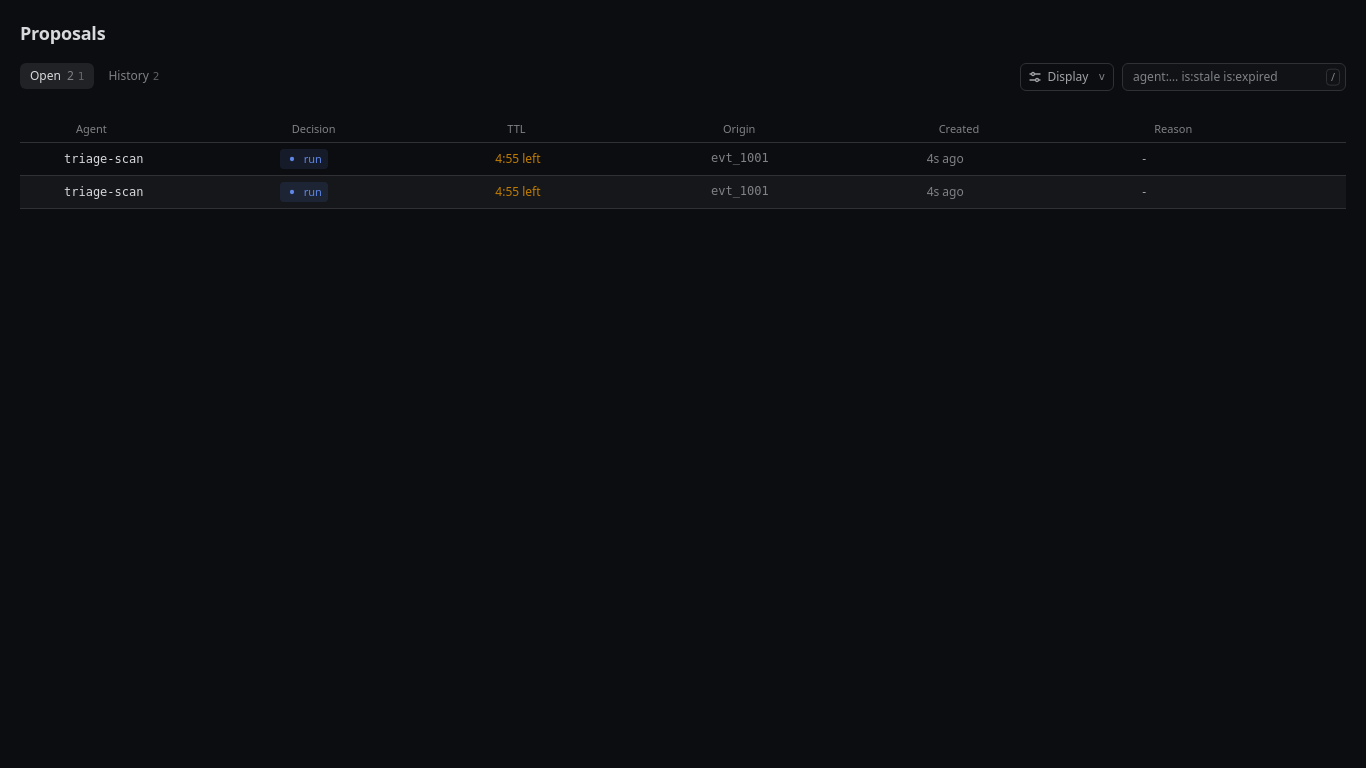
Proposals multi-row selection & bulk actions (WM-71) › bulk reject prompts once for reason and applies to all selected
Check: the checkbox named "Select proposal prop_1" is shown, box [20,143,52,176]
// Select all 2
Click the checkbox named "Select all proposals": [36, 129] box [20,115,52,143]
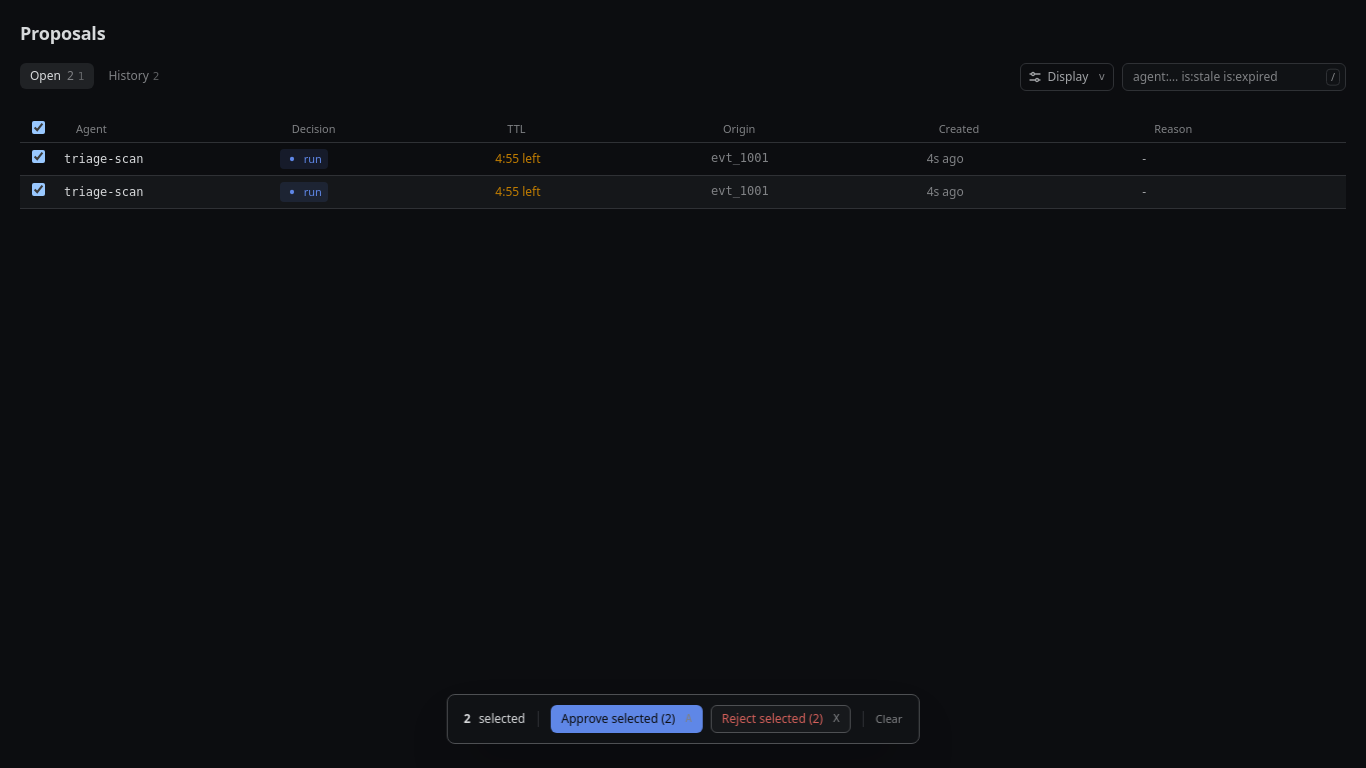
// Click Reject selected (2)
Click the button "Reject selected (2) X": [781, 719] box [711,705,851,733]
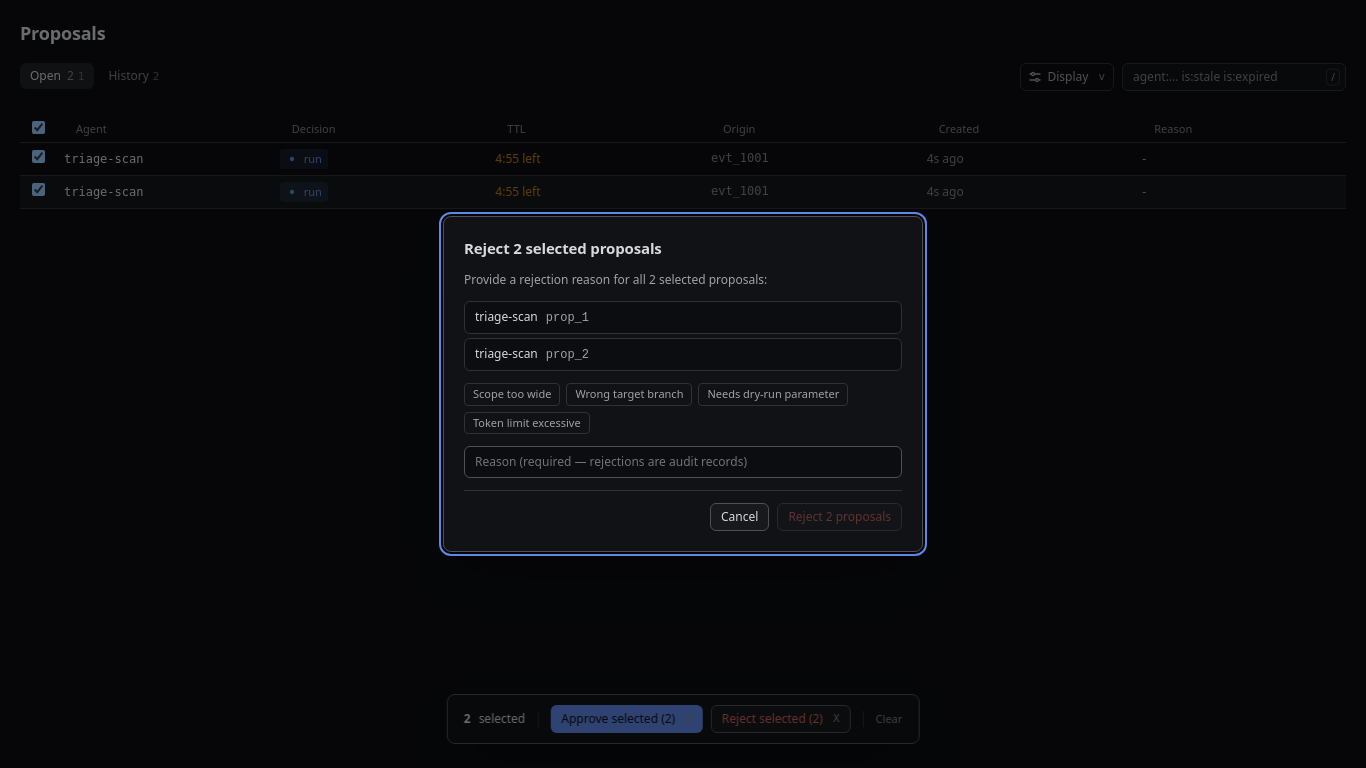
Check: the dialog is shown, box [443,216,923,552]
Check: the text "Reject 2 selected proposals" is shown, box [464,238,662,258]
// Click a canned template
Click the button "Scope too wide": [512, 395] box [464,383,560,406]
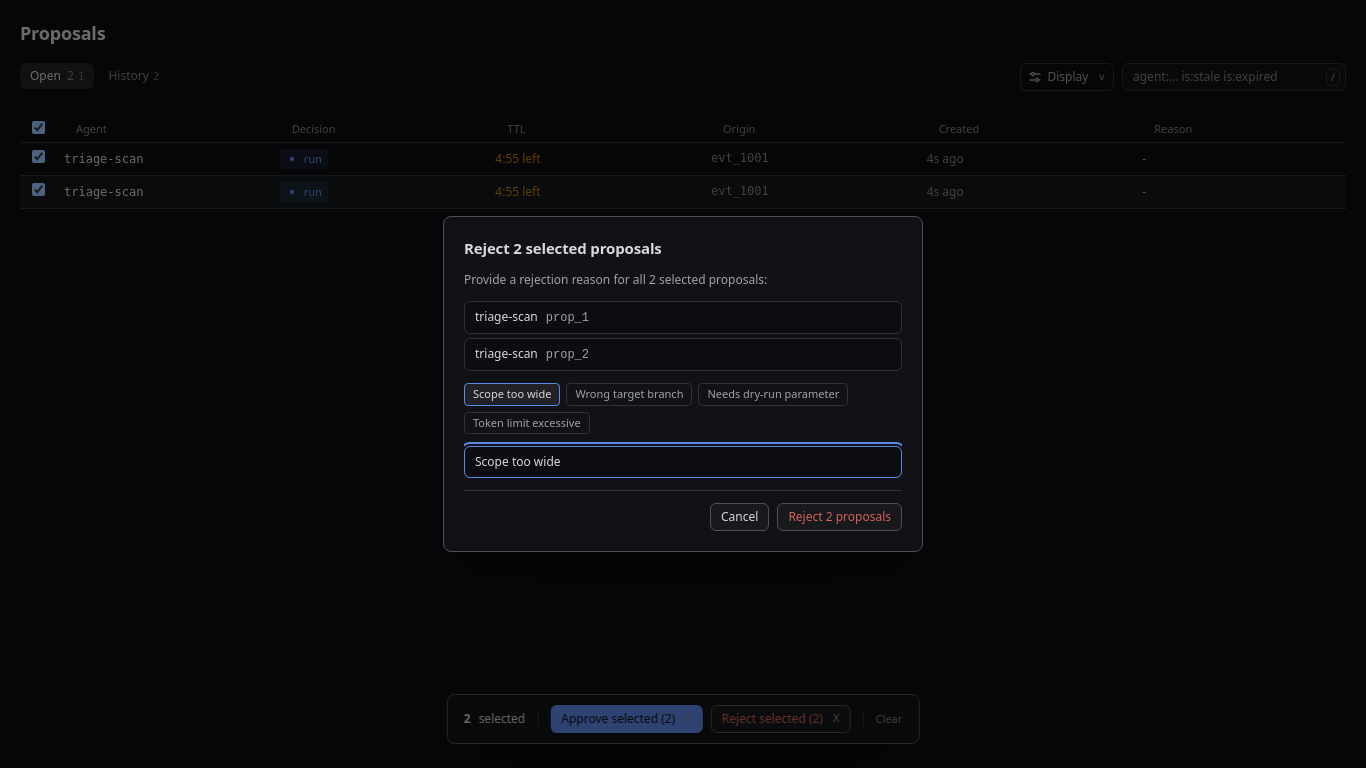
// Confirm bulk rejection
Click the button "Reject 2 proposals": [840, 517] box [777,503,902,531]
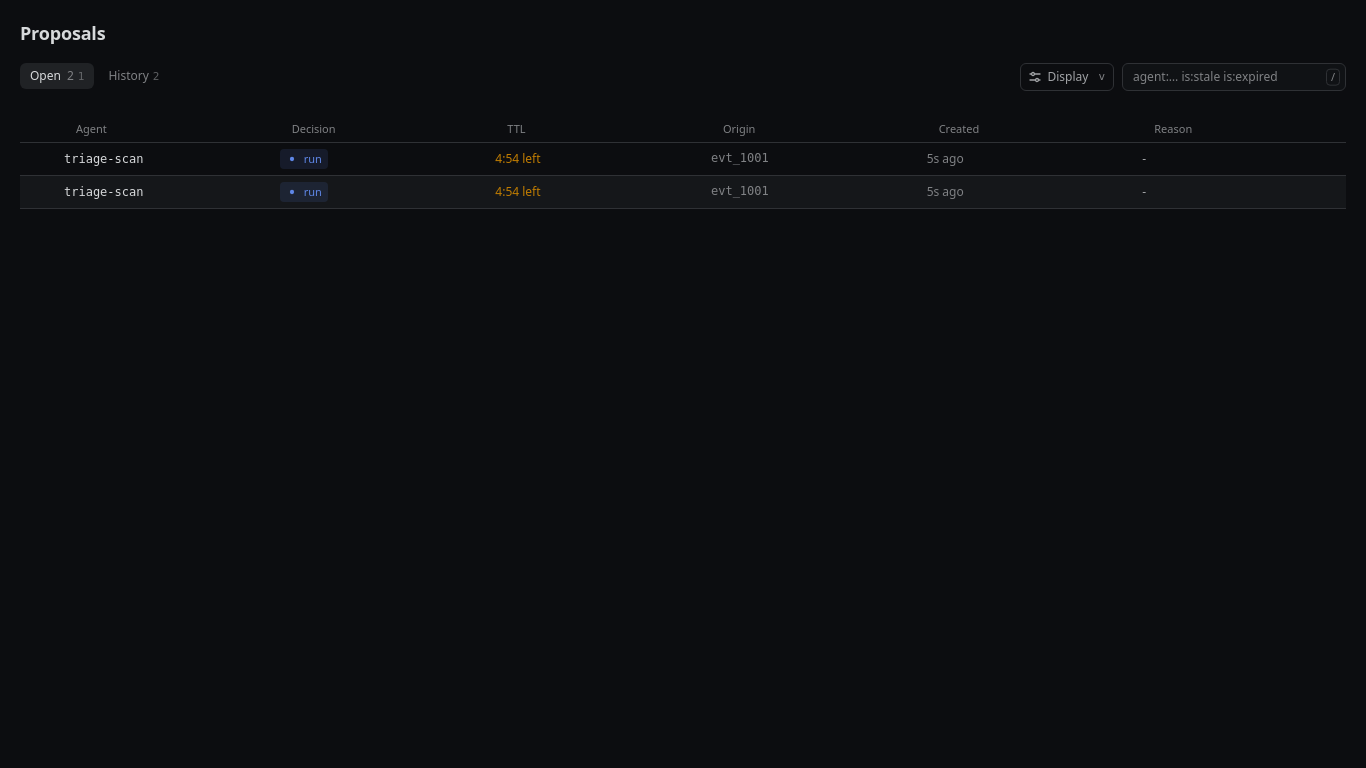
Check: the dialog is gone
